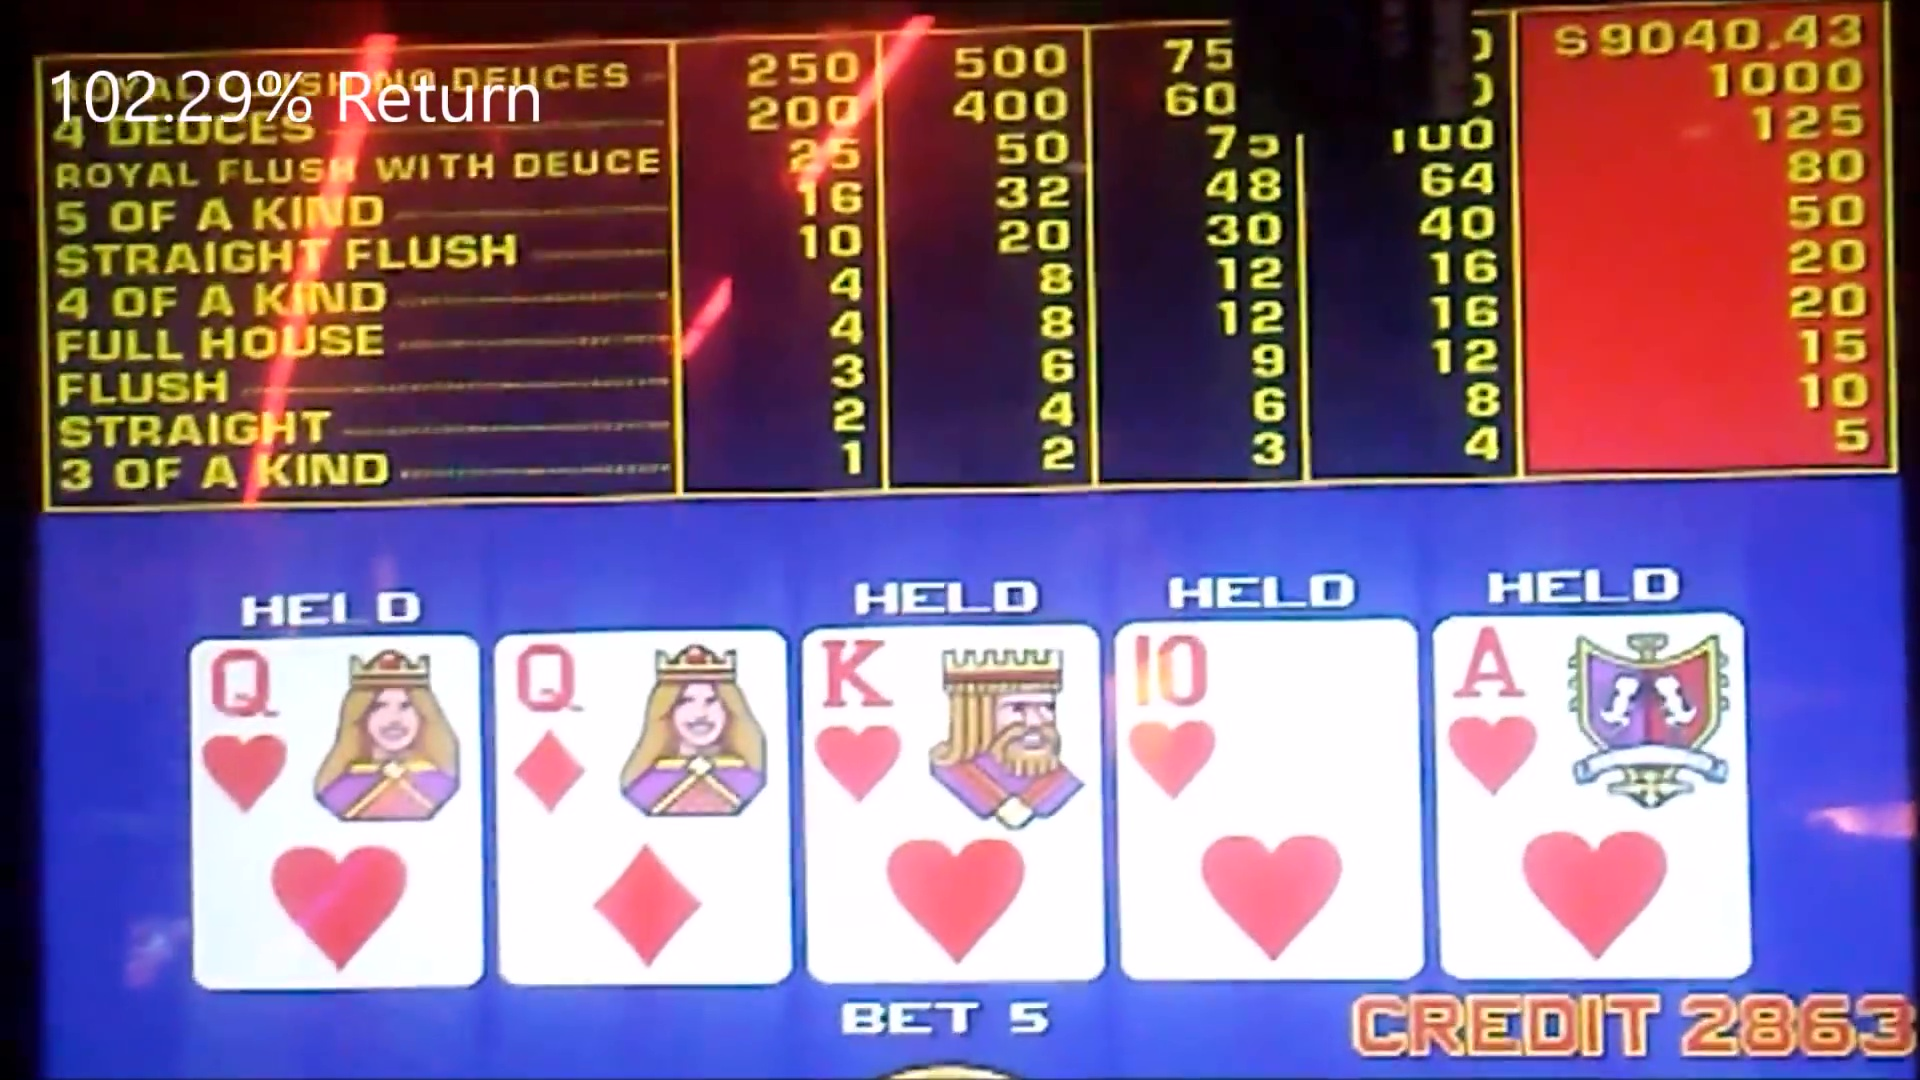DQ: (498, 637, 787, 827)
HA: (1437, 618, 1745, 815)
HK: (812, 626, 1096, 820)
HQ: (195, 638, 479, 829)
HT: (1118, 618, 1418, 816)
